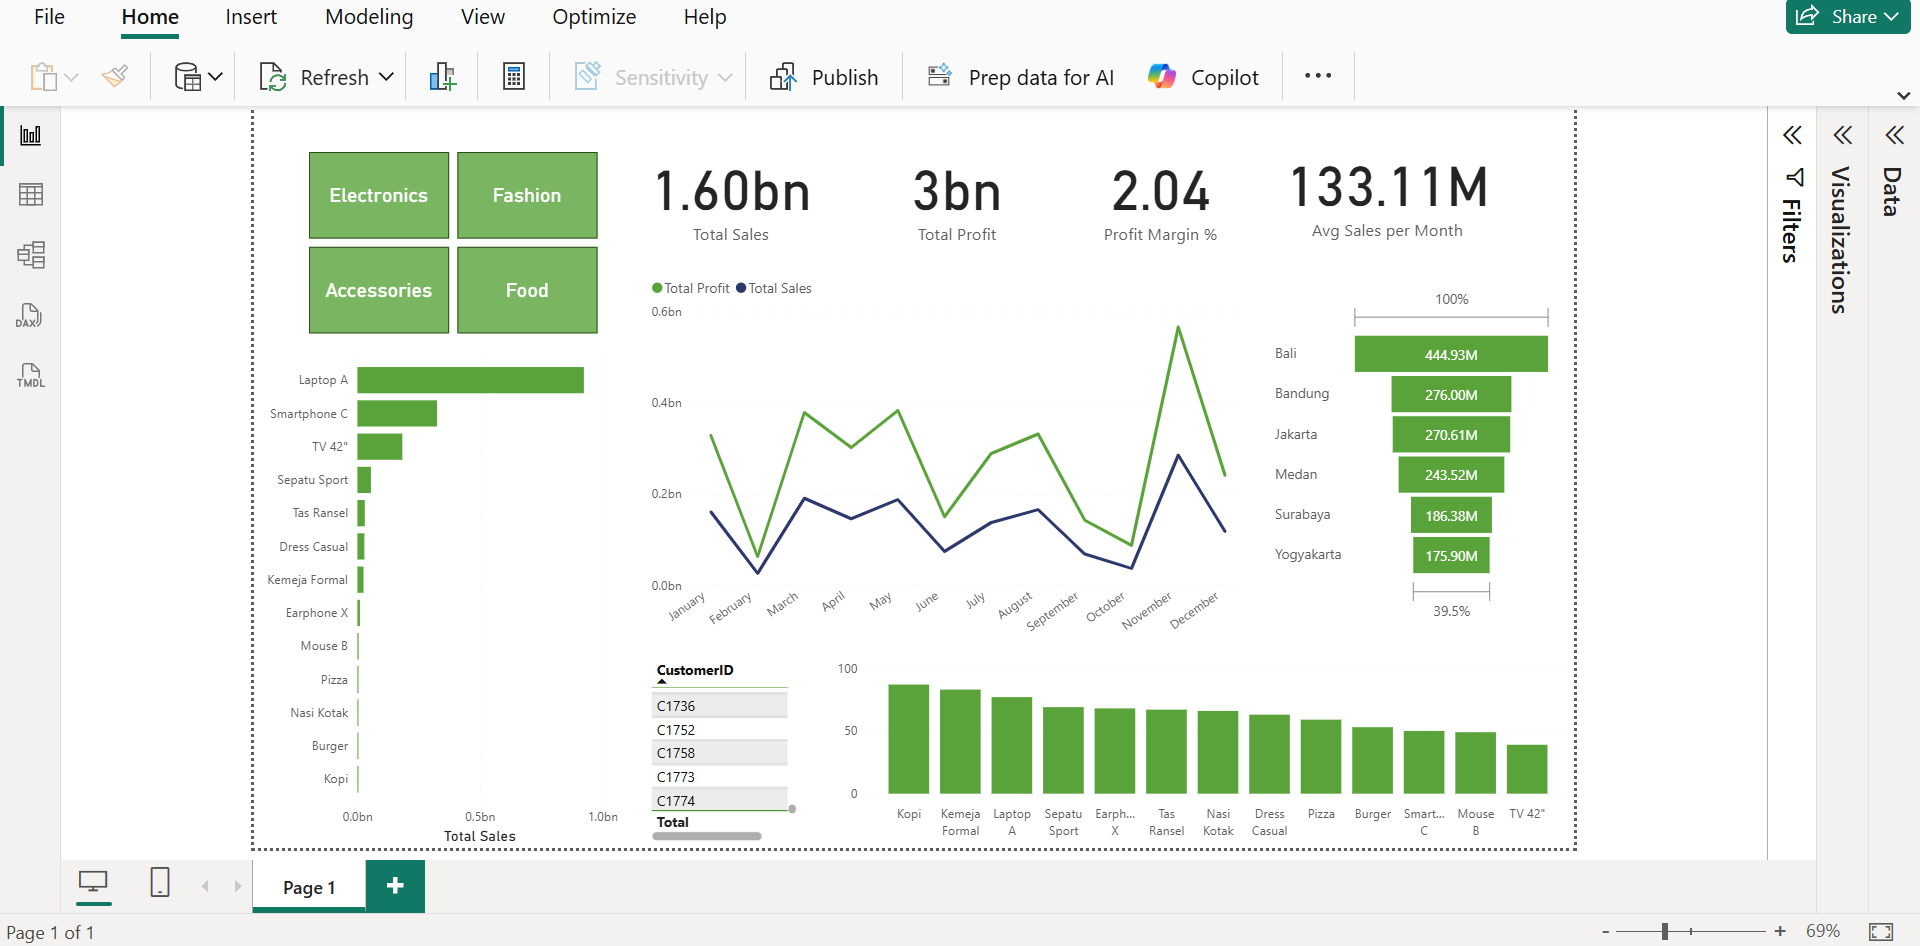

The dashboard page shown, as its layout file describes it:
{"tool":"powerbi","page":{"name":"Page 1","canvas":[1280,720],"ordinal":0},"visuals":[{"type":"card","fields":{"Values":["sales_bigdata.Total Sales"]},"box":[357.8,0,208.9,170],"z":0},{"type":"card","fields":{"Values":["sales_bigdata.Total Profit"]},"box":[578.3,0,208.3,170],"z":1000},{"type":"card","fields":{"Values":["sales_bigdata.Profit Margin %"]},"box":[775,0,210,170],"z":2000},{"type":"barChart","fields":{"Category":["sales_bigdata.ProductName"],"Y":["sales_bigdata.Total Sales"]},"box":[0,226.7,357.8,493.9],"z":3000},{"type":"lineChart","fields":{"Y":["sales_bigdata.Total Profit","sales_bigdata.Total Sales"],"Category":["DateTable.MonthName"]},"box":[379.9,155.7,585.1,377],"z":4000},{"type":"funnel","fields":{"Category":["DimRegion.Region"],"Y":["sales_bigdata.Total Sales"]},"box":[985,170,280,335],"z":5000},{"type":"advancedSlicerVisual","fields":{"Values":["sales_bigdata.Category"]},"box":[48.3,40,291.7,186.7],"z":6000},{"type":"tableEx","fields":{"Values":["DimCustomer.CustomerID","select"]},"box":[380,531.7,151.7,186.7],"z":7000},{"type":"card","fields":{"Values":["sales_bigdata.Avg Sales per Month"]},"box":[985,6.7,228.3,148.3],"z":8000},{"type":"clusteredColumnChart","fields":{"Category":["sales_bigdata.ProductName"],"Y":["Sum(sales_bigdata.Quantity)"]},"box":[560,531.7,720,186.7],"z":9000}]}

Visuals, with their boxes on the page's 1280x720 design canvas (x1, y1, x2, y2). These are canvas units, not pixel positions in the 1920x946 screenshot, which may show the page scaled, cropped or inside an application window:
card - sales_bigdata.Total Sales: (358,0,567,170)
card - sales_bigdata.Total Profit: (578,0,787,170)
card - sales_bigdata.Profit Margin %: (775,0,985,170)
barChart - sales_bigdata.ProductName x sales_bigdata.Total Sales: (0,227,358,721)
lineChart - sales_bigdata.Total Profit x sales_bigdata.Total Sales: (380,156,965,533)
funnel - DimRegion.Region x sales_bigdata.Total Sales: (985,170,1265,505)
advancedSlicerVisual - sales_bigdata.Category: (48,40,340,227)
tableEx - DimCustomer.CustomerID x select: (380,532,532,718)
card - sales_bigdata.Avg Sales per Month: (985,7,1213,155)
clusteredColumnChart - sales_bigdata.ProductName x Sum(sales_bigdata.Quantity): (560,532,1280,718)
